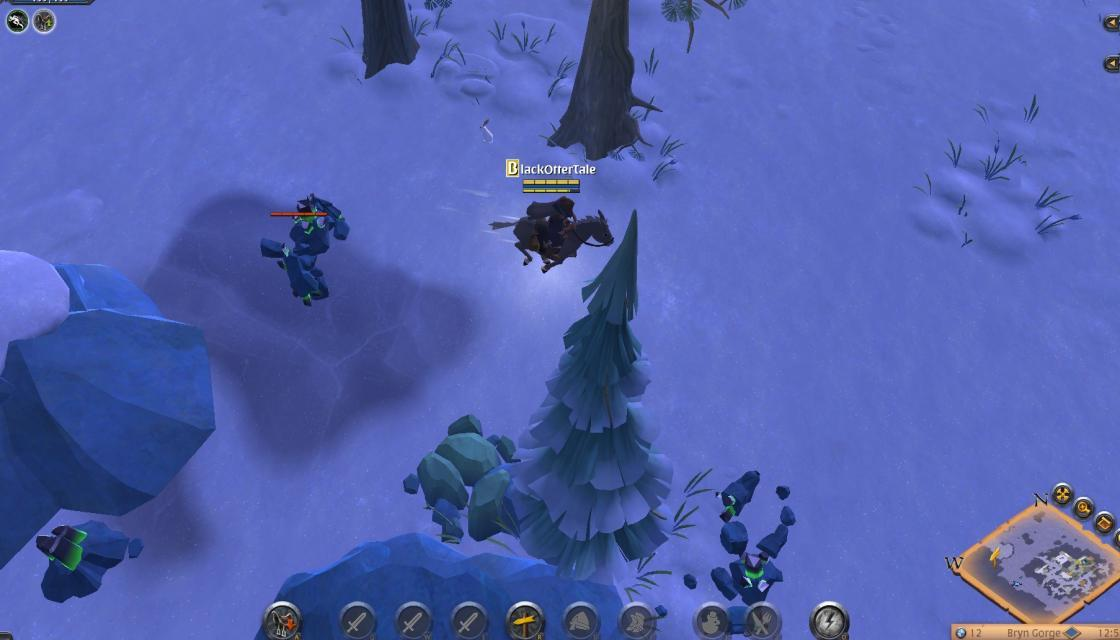sandstone: (414, 410, 522, 538)
tinore: (32, 512, 136, 606)
